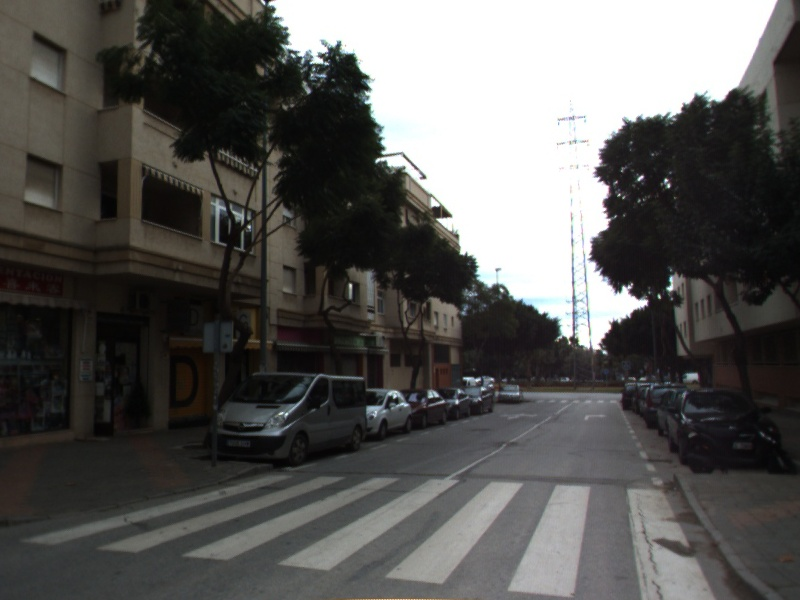RIGHT: (583, 412, 609, 422)
